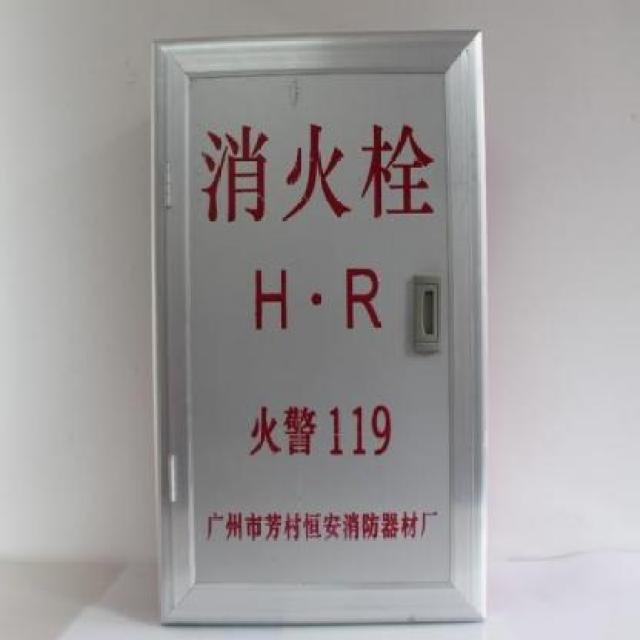firehydrant: (147, 23, 496, 631)
